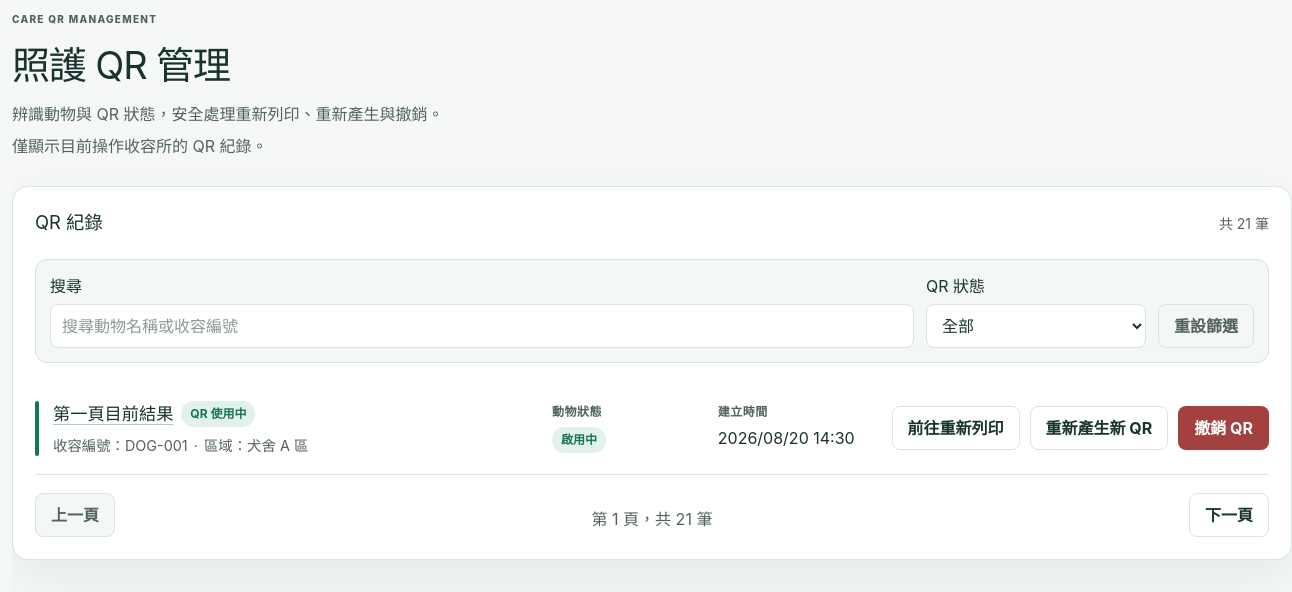
Test: animal-aware care QR management list › keeps page two when a late page-one request resolves
Click the button "下一頁" at point(1229, 515), box [1189, 493, 1269, 537]
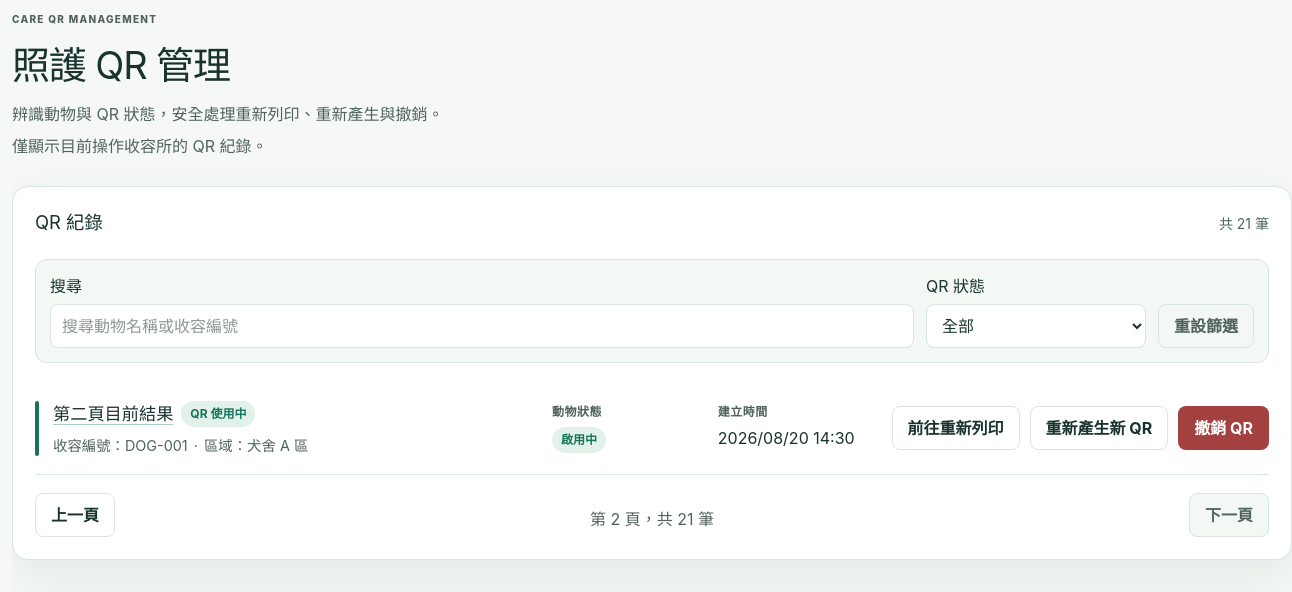
Click the button "上一頁" at point(75, 515), box [35, 493, 115, 537]
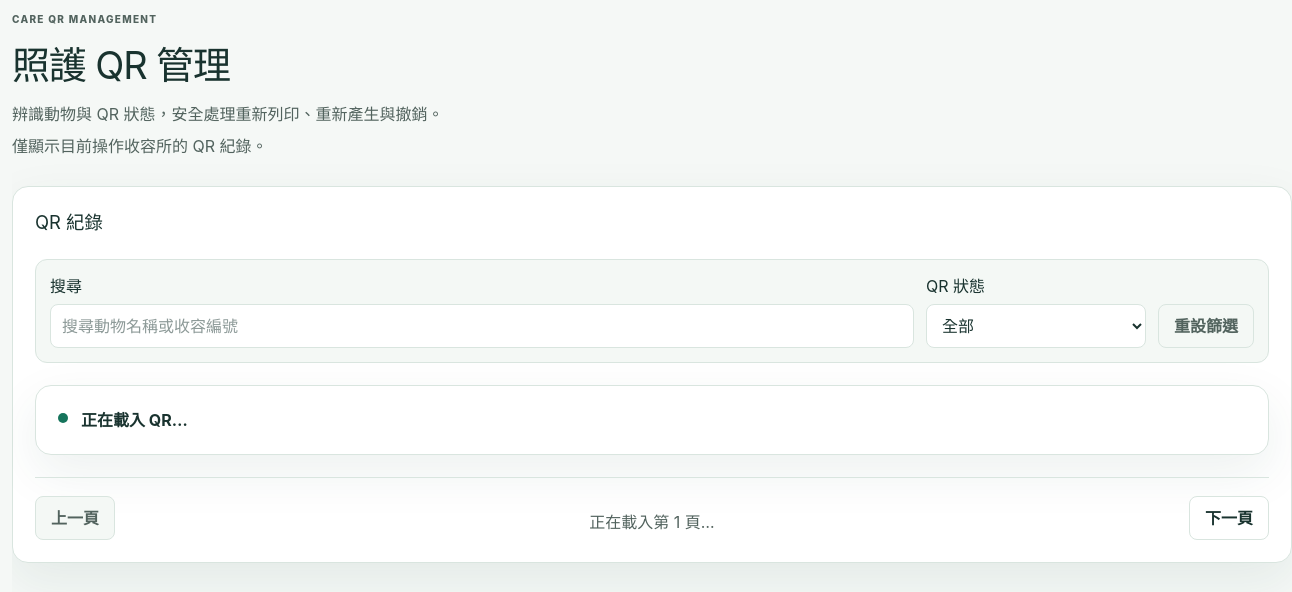
Click the button "下一頁" at point(1229, 518), box [1189, 496, 1269, 540]
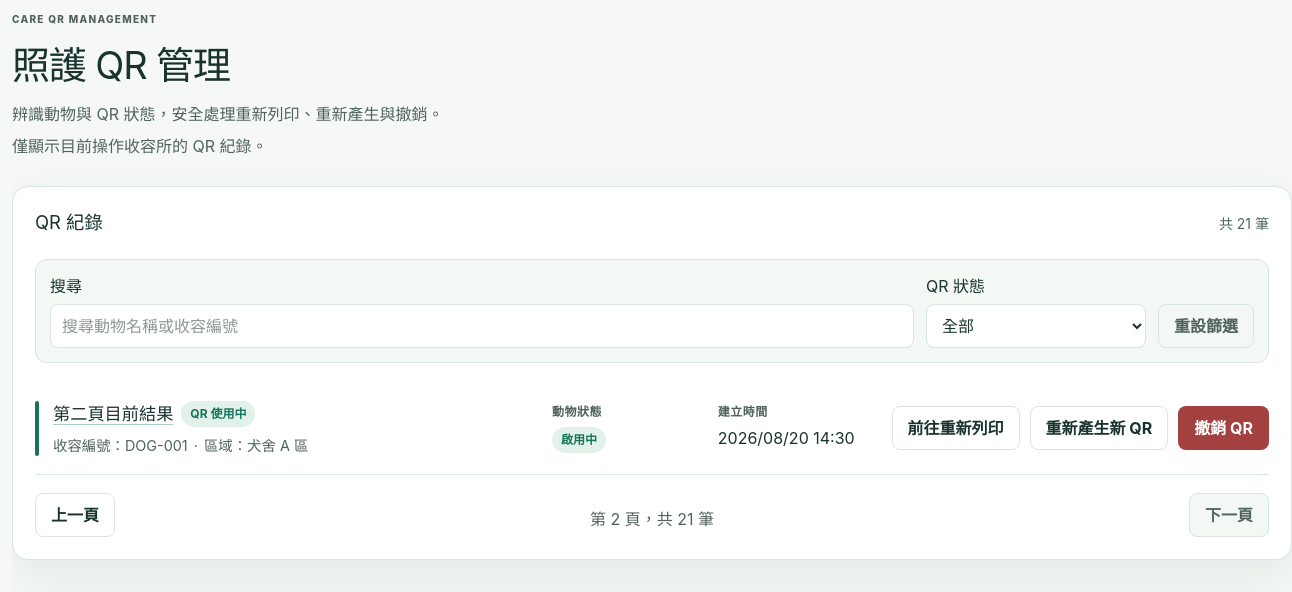
Result: the list item is shown at [35, 381, 1269, 456]
